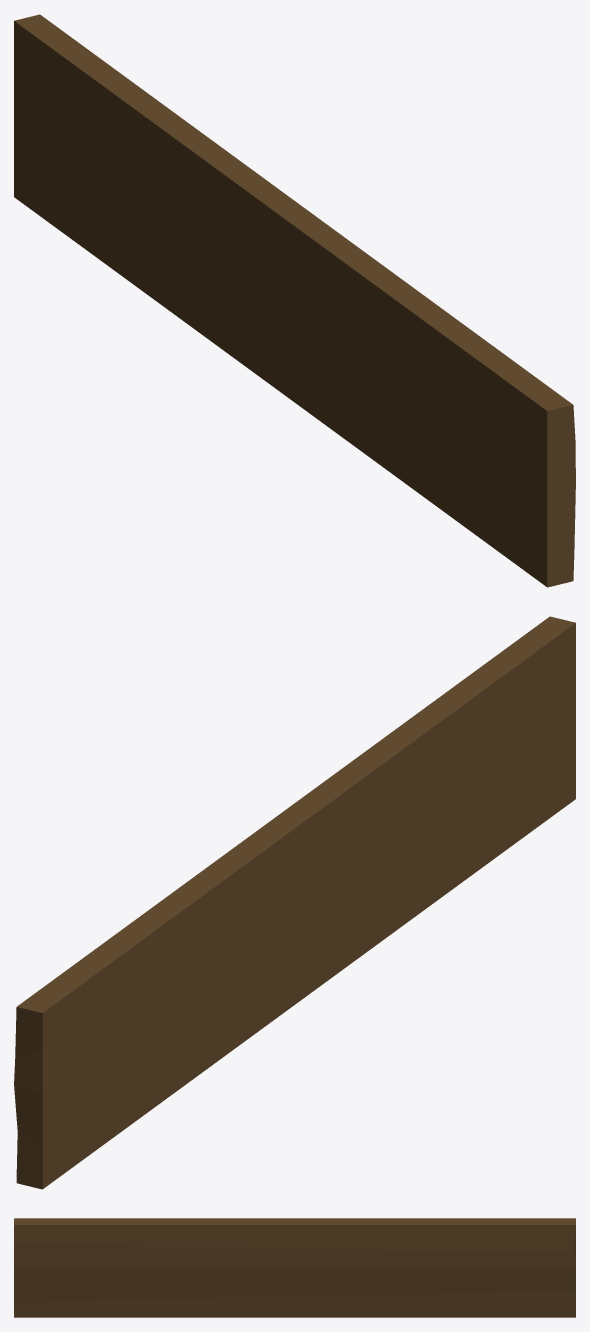
Rendered from tablamadera.fbx.
3 views of the same model, one above another, from view 1: azimuth 30°, elevation 25°; view 2: azimuth 150°, elevation 25°; view 3: azimuth 270°, elevation 25° (orthographic). The views are drawn at different scales.
Parts seen in each view (by area): view 1: Cube; view 2: Cube; view 3: Cube.
Part boxes in pixels (box(x1,y1,x2,y2)): Cube: box(14, 14, 575, 587); Cube: box(14, 616, 575, 1189); Cube: box(14, 1218, 575, 1317).
Size of the model in its own units: 20.64 by 122 by 667.
